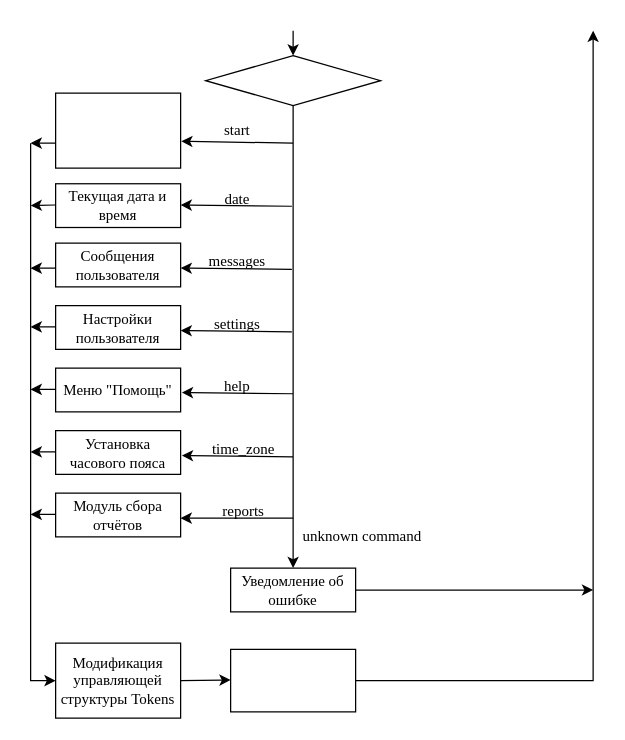
The diagram is 625 pixels wide and 740 high, and some of its shapes have lost their labels. The shapes that lost their labels are listed below. From the top down, each one's centre as x and y in pixels, then its label:
pixel 292 80: action
pixel 117 130: Авторизация, вывод меню, список дел на неделю
pixel 292 680: Отправка сообщения
